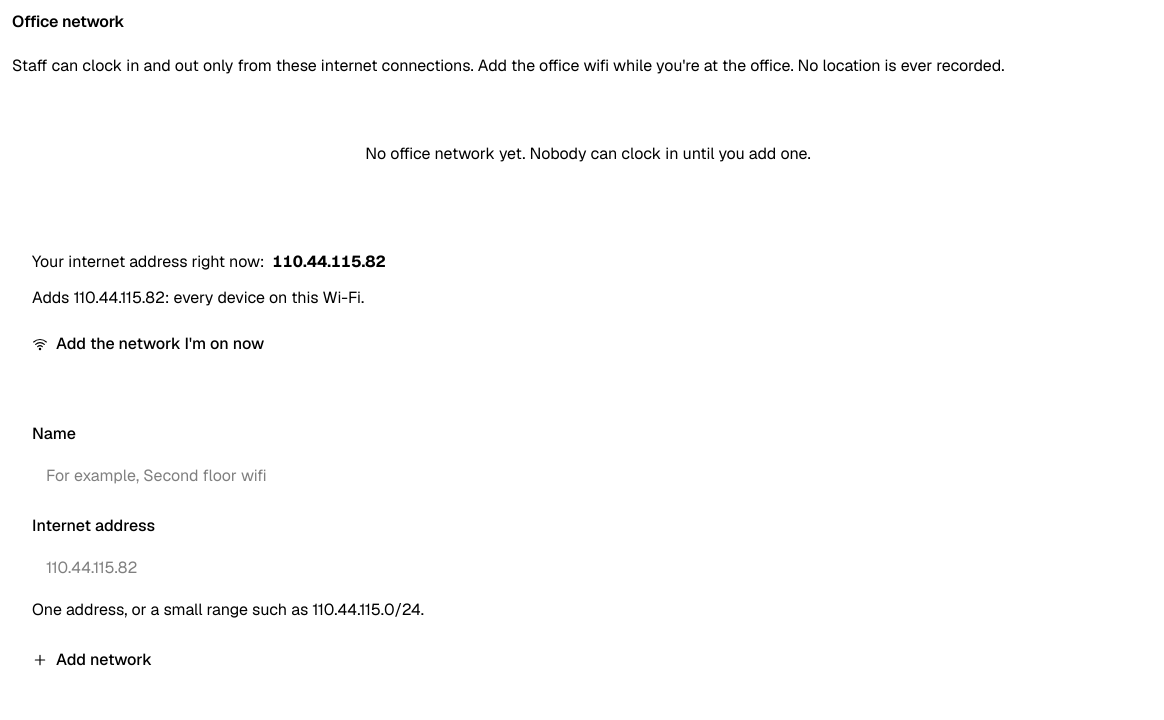
OfficeNetworkSettings › Add the network I'm on now › shows my address and adds it in one click
The width and height of the screenshot is (1164, 720).
Check: the text "110.44.115.82" is shown, box [272, 250, 386, 274]
Check: the text "Adds 110.44.115.82: every device on this Wi-Fi." is shown, box [32, 287, 364, 308]
Step 1. Click the button "Add the network I'm on now" → (148, 344), box [32, 322, 264, 366]
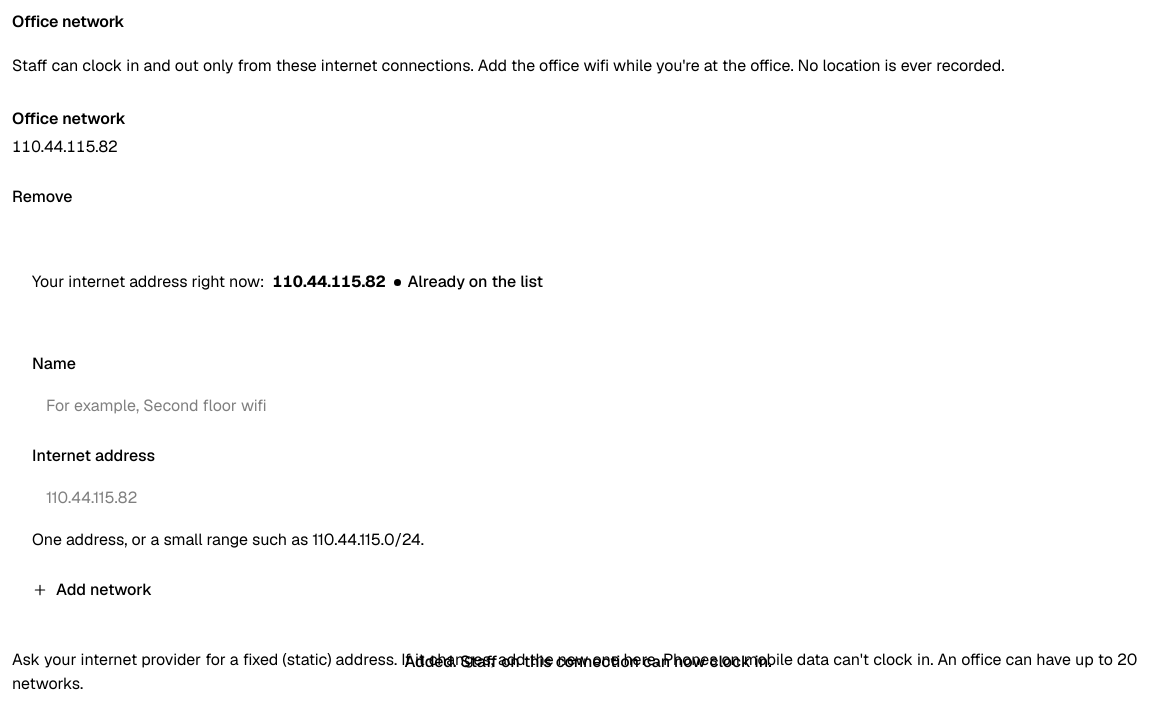
Check: the text "Added. Staff on this connection can now clock in." is shown, box [404, 651, 772, 672]
Check: the text "Already on the list" is shown, box [408, 268, 543, 296]
Check: the button "Add the network I'm on now" is gone
